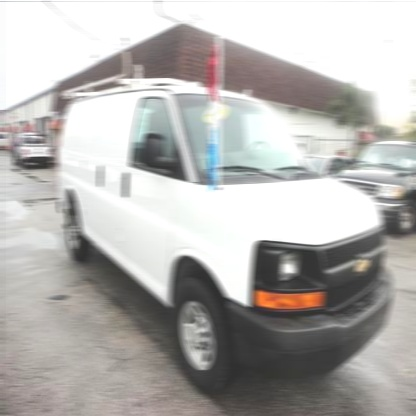Vehicle: (59, 82, 395, 371)
